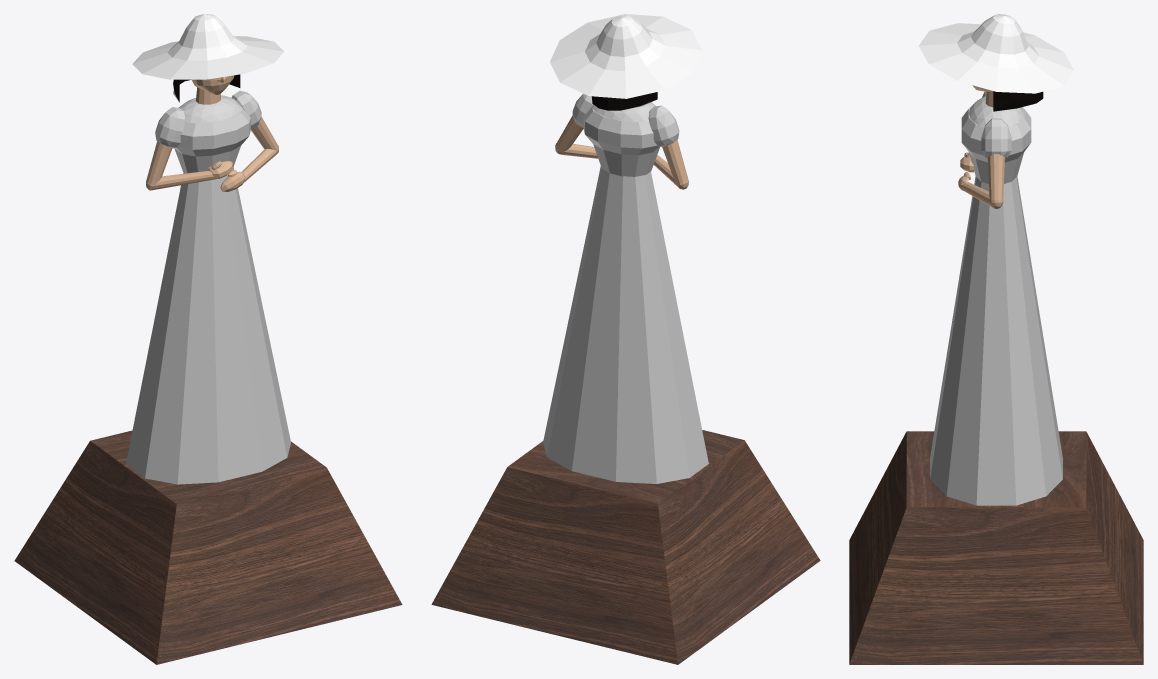
File: BigShelly.FBX
3 renders of one model, left to right at view 1: azimuth 30°, elevation 25°; view 2: azimuth 150°, elevation 25°; view 3: azimuth 270°, elevation 25°, orthographic. The views are drawn at different scales.
Visible parts, largest first — view 1: Box002, VIFS020, VIFS012, VIFS021, VIFS018, VIFS017, VIFS019, VIFS003, VIFS002, VIFS016; view 2: Box002, VIFS020, VIFS012, VIFS021, VIFS019, VIFS017, VIFS013, VIFS018, VIFS002; view 3: Box002, VIFS020, VIFS012, VIFS021, VIFS016, VIFS018, VIFS013, VIFS005, VIFS019.
Boxes of the visible parts, <box> form: Box002: <box>14,430,402,664</box>; VIFS020: <box>126,167,290,484</box>; VIFS012: <box>132,14,284,79</box>; VIFS021: <box>174,107,250,156</box>; VIFS018: <box>179,95,242,122</box>; VIFS017: <box>155,107,185,148</box>; VIFS019: <box>174,146,240,173</box>; VIFS003: <box>150,171,216,190</box>; VIFS002: <box>146,141,172,185</box>; VIFS016: <box>231,90,261,129</box>; Box002: <box>431,430,820,664</box>; VIFS020: <box>543,166,708,483</box>; VIFS012: <box>550,14,702,98</box>; VIFS021: <box>583,106,659,155</box>; VIFS019: <box>593,144,659,176</box>; VIFS017: <box>648,105,679,146</box>; VIFS013: <box>591,92,657,110</box>; VIFS018: <box>592,102,655,121</box>; VIFS002: <box>662,140,688,184</box>; Box002: <box>849,431,1143,664</box>; VIFS020: <box>930,176,1062,505</box>; VIFS012: <box>918,14,1074,93</box>; VIFS021: <box>961,102,1031,162</box>; VIFS016: <box>981,118,1011,158</box>; VIFS018: <box>969,96,1023,127</box>; VIFS013: <box>993,91,1043,111</box>; VIFS005: <box>988,154,1004,201</box>; VIFS019: <box>969,152,1023,183</box>.
Size of the model in its own units: 10 by 21.98 by 10.
6 materials, 1 textured.
